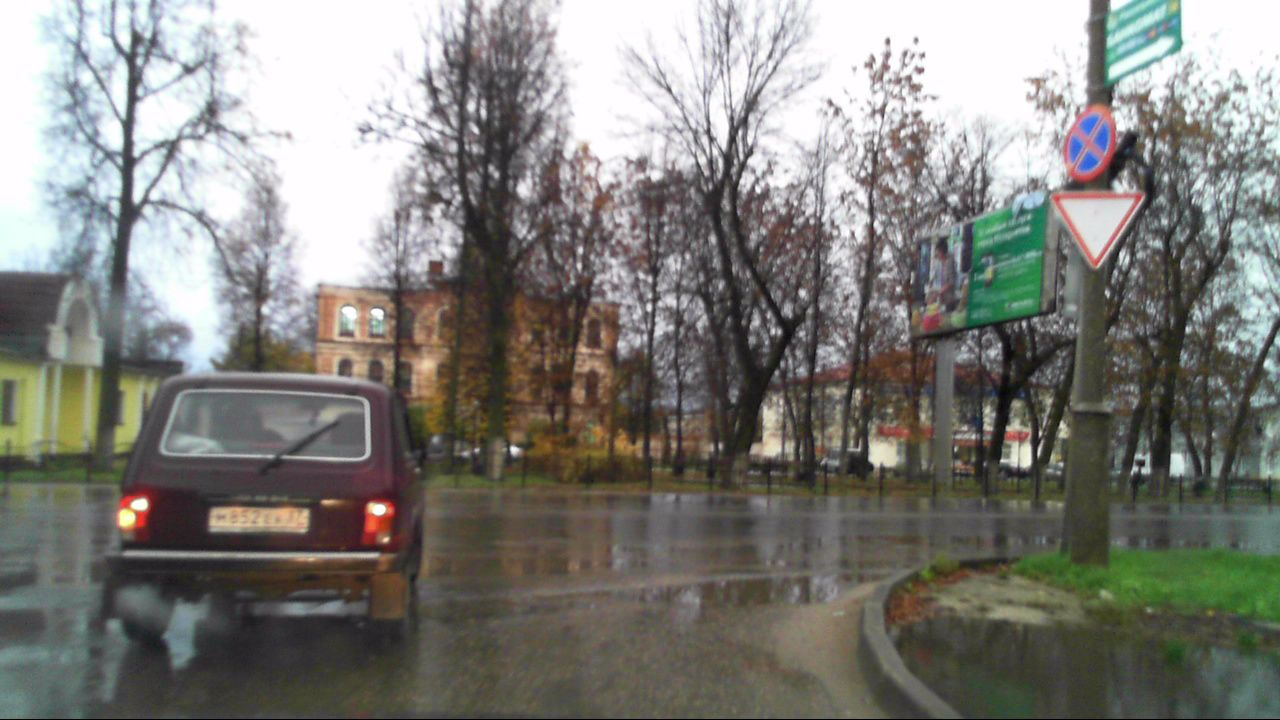No Parking: (1065, 104, 1118, 184)
